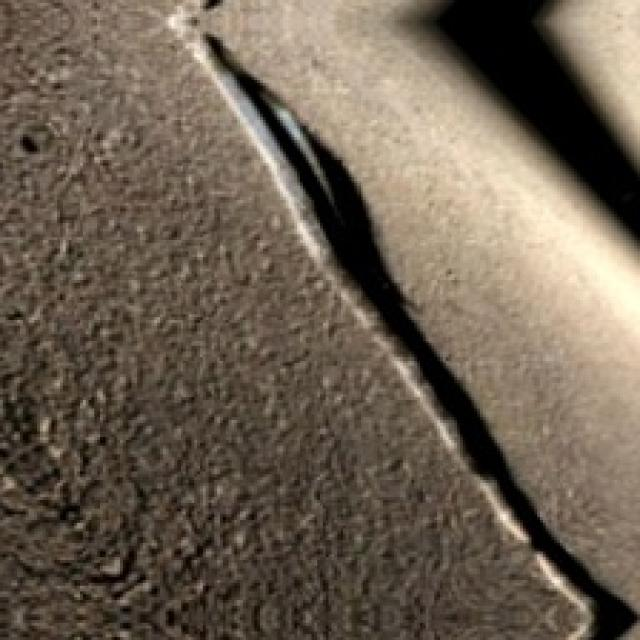reticulated python: (171, 17, 634, 637)
